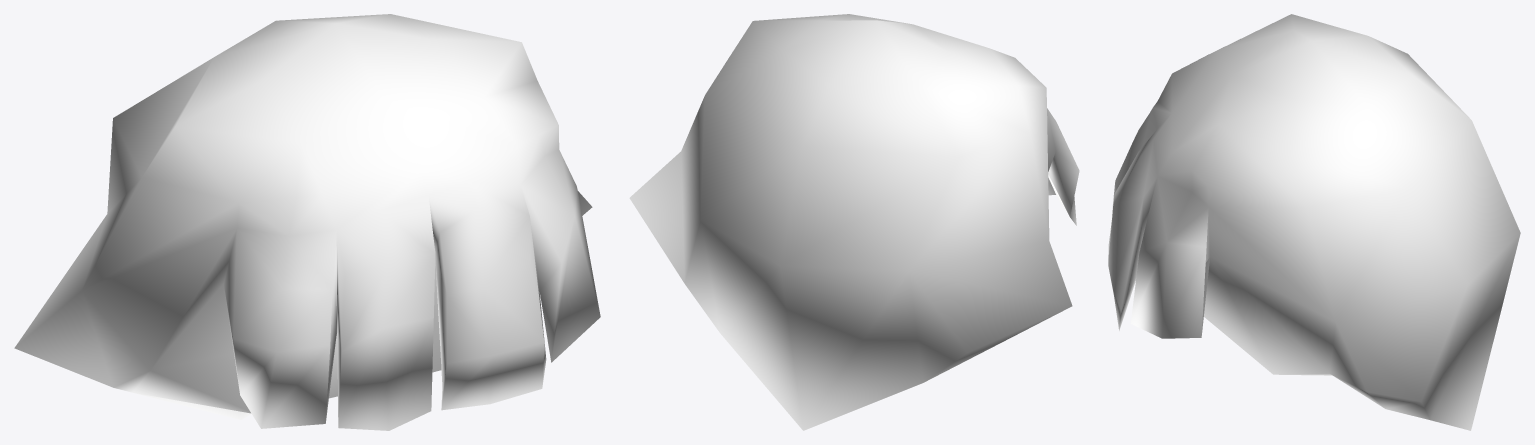
Rendered from Girl_Hair.fbx.
3 views of the same model, side by side, from view 1: azimuth 30°, elevation 25°; view 2: azimuth 150°, elevation 25°; view 3: azimuth 270°, elevation 25° (orthographic). The views are drawn at different scales.
Parts seen in each view (by area): view 1: Hair; view 2: Hair; view 3: Hair.
Part boxes in pixels (x1,y1,x2,y2): Hair: [14, 14, 600, 430]; Hair: [629, 14, 1079, 430]; Hair: [1108, 14, 1520, 430].
Size of the model in its own units: 148 by 114 by 109.
